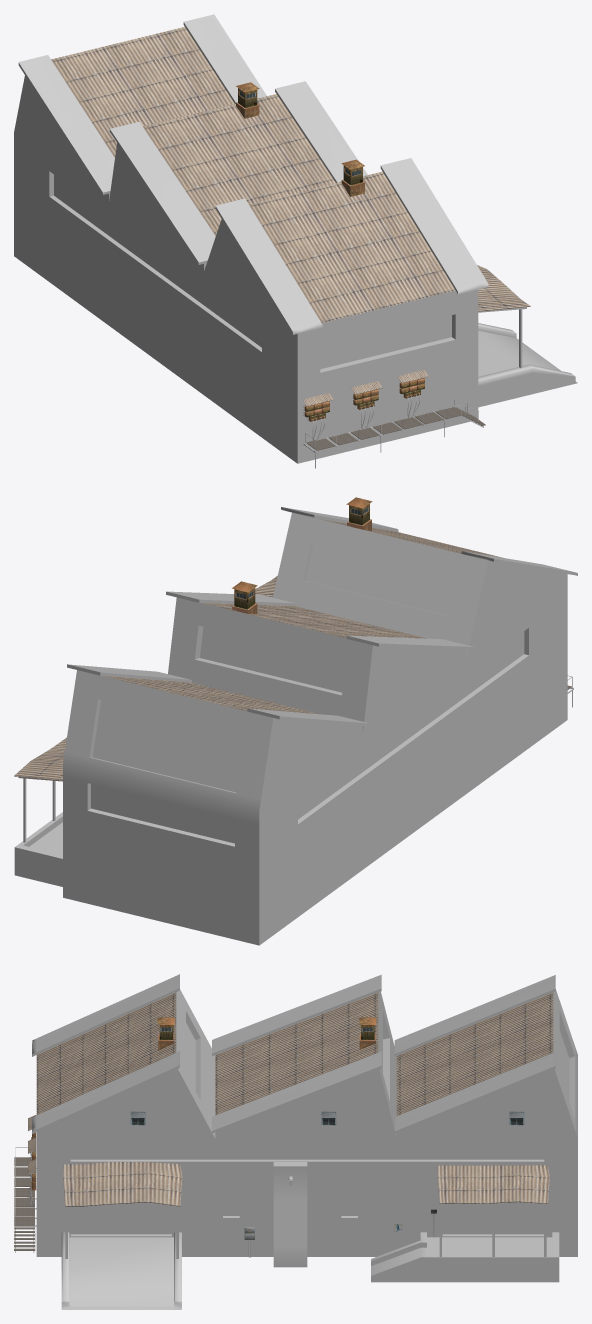
The model's file is ind4_hall2_LOD0.fbx.
3 renders of one model, top to bottom at view 1: azimuth 30°, elevation 25°; view 2: azimuth 150°, elevation 25°; view 3: azimuth 270°, elevation 25°, orthographic. The views are drawn at different scales.
Parts seen in each view (by area): view 1: Mesh Object; view 2: Mesh Object; view 3: Mesh Object.
Part boxes in pixels (left/top/right/bottom): Mesh Object: left=14, top=14, right=577, bottom=468; Mesh Object: left=14, top=497, right=577, bottom=945; Mesh Object: left=14, top=974, right=577, bottom=1309.
Bounding box in the file's own units: 24.64 × 17.53 × 41.99.
